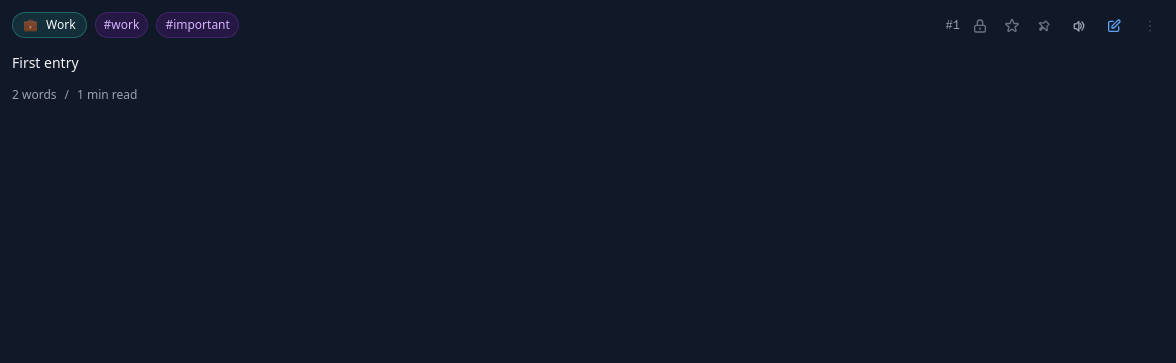
Scenario: EntryViewMode › closes history without refetching when view history is selected again
Click the button named "More actions". click: (1150, 26)
box: [1136, 12, 1164, 40]
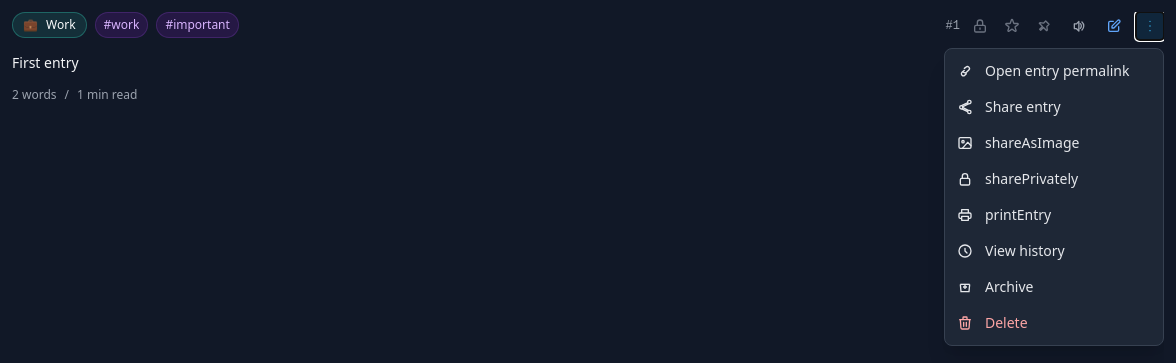
Click the menu item titled "View history". click: (1054, 251)
box: [945, 233, 1163, 269]
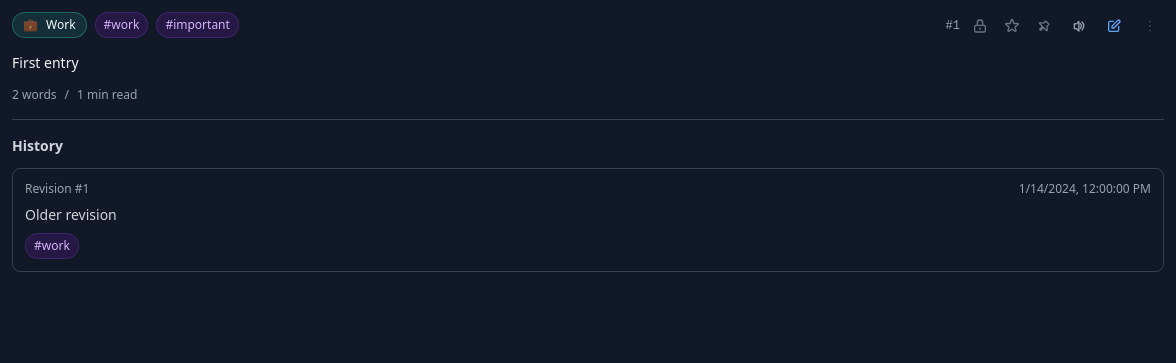
Now the text "Older revision" is shown, box [25, 205, 117, 224]
Click the button named "More actions". click: (1150, 26)
box: [1136, 12, 1164, 40]
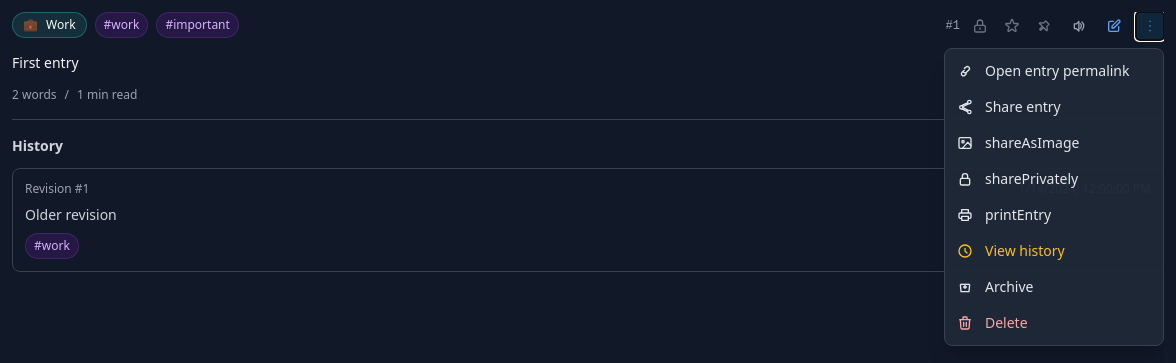
Click the menu item titled "View history". click: (1054, 251)
box: [945, 233, 1163, 269]
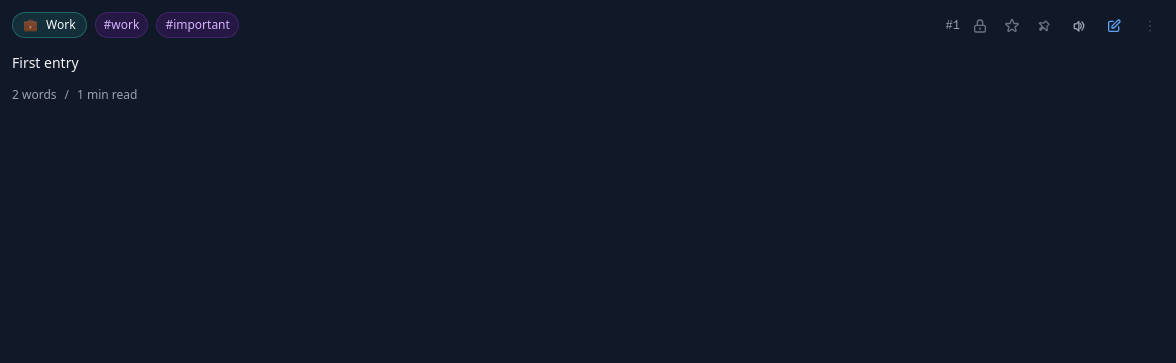
Now the text "Older revision" is gone
